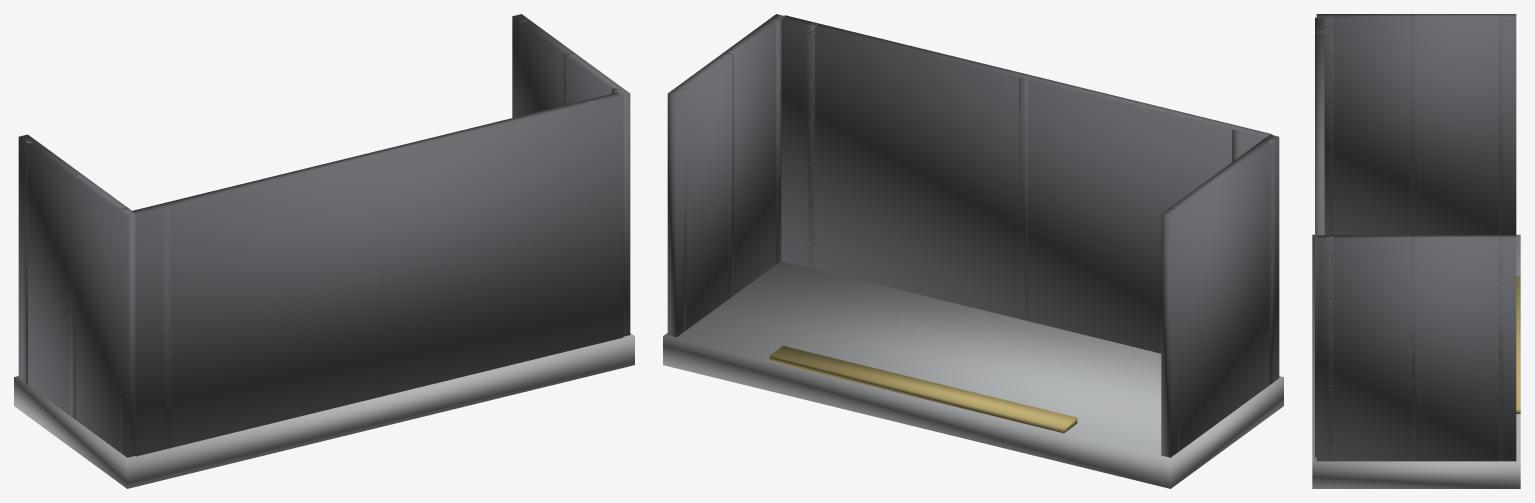
Rendered from landing_motel_w220_d85_door.glb.
3 renders of one model, left to right at view 1: azimuth 30°, elevation 25°; view 2: azimuth 150°, elevation 25°; view 3: azimuth 270°, elevation 25°, orthographic. The views are drawn at different scales.
Visible parts, largest first — view 1: world; view 2: world; view 3: world.
Boxes of the visible parts, x1,y1,x2,y2 form: world: (14, 14, 634, 488); world: (663, 14, 1283, 488); world: (1312, 14, 1520, 488).
Bounding box in the file's own units: 2.2 × 1.12 × 0.85.
